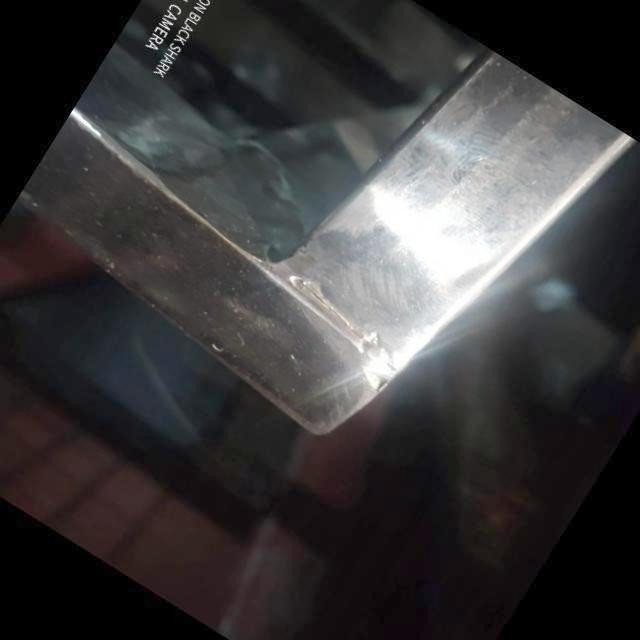defect: (296, 278, 366, 342)
